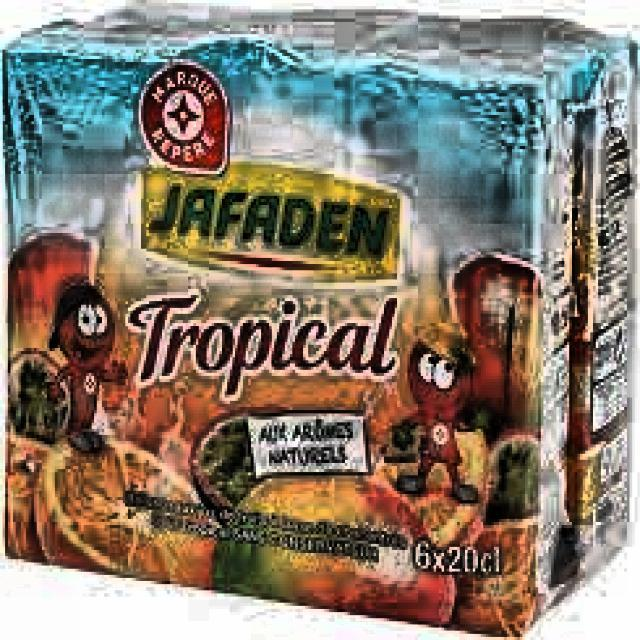cardboard: (0, 3, 637, 637)
